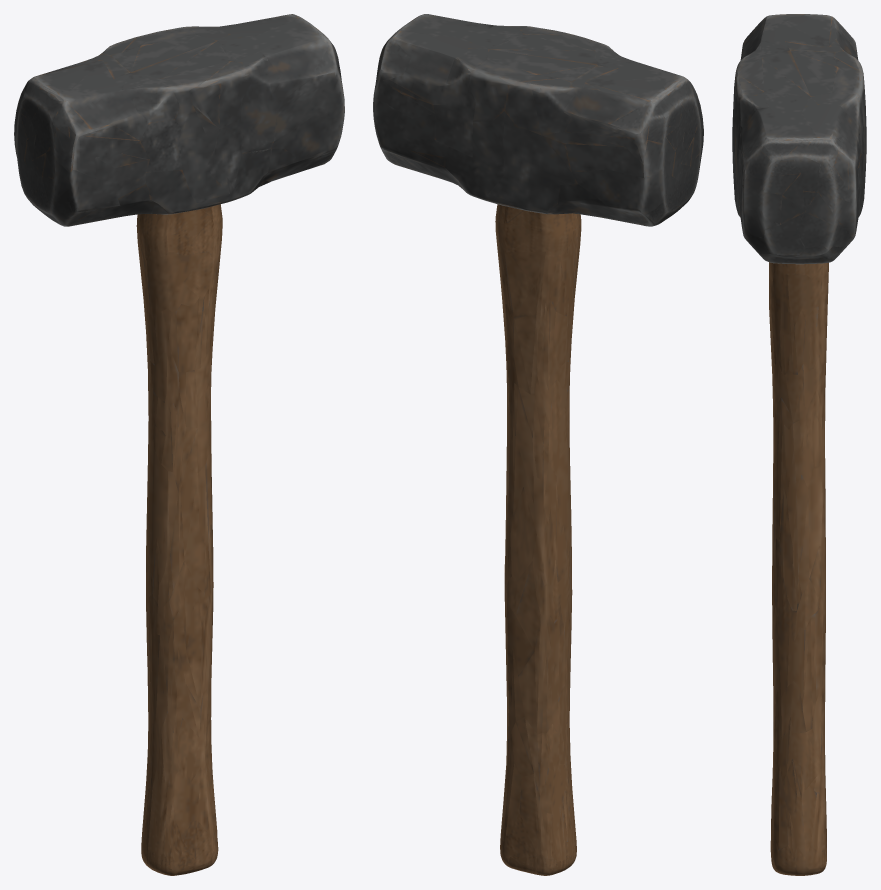
The model's file is hammer.glb.
3 views of the same model, side by side, from view 1: azimuth 30°, elevation 25°; view 2: azimuth 150°, elevation 25°; view 3: azimuth 270°, elevation 25° (orthographic). The views are drawn at different scales.
Bounding box in the file's own units: 0.7116 × 1.9 × 0.2934.
1 material, 1 textured.
